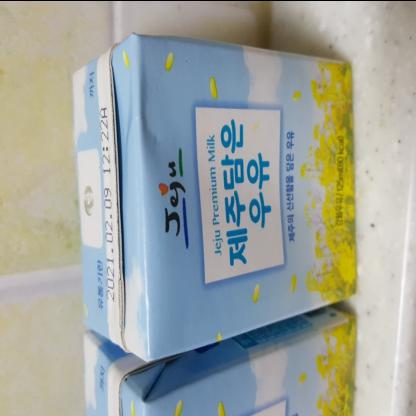tetra: (49, 20, 382, 358)
